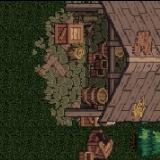Hide: (4, 15, 78, 79)
Obstacle: (29, 0, 160, 126), (64, 126, 128, 160), (128, 126, 159, 160)
